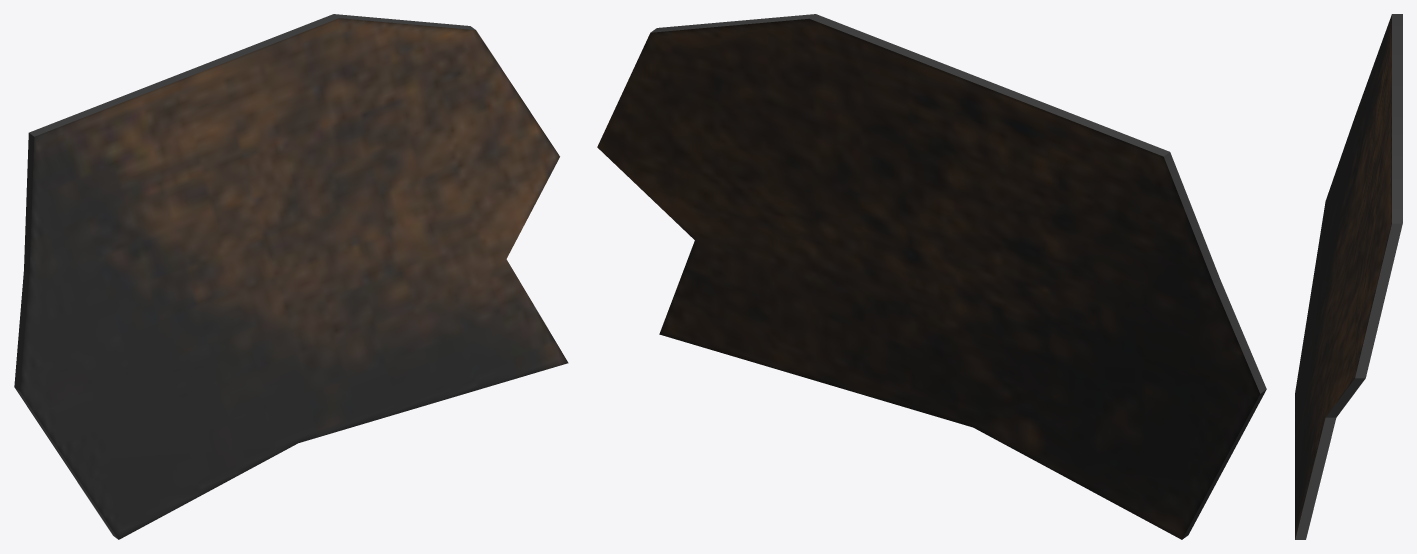
The model's file is FlyingDebri3.fbx.
3 renders of one model, left to right at view 1: azimuth 30°, elevation 25°; view 2: azimuth 150°, elevation 25°; view 3: azimuth 270°, elevation 25°, orthographic. The views are drawn at different scales.
Parts seen in each view (by area): view 1: FlyingDebri3; view 2: FlyingDebri3; view 3: FlyingDebri3.
Boxes of the visible parts, x1,y1,x2,y2 form: FlyingDebri3: (14,14,568,539); FlyingDebri3: (597,14,1266,539); FlyingDebri3: (1295,14,1402,539).
Bounding box in the file's own units: 0.0582 × 0.042 × 0.0101.
Materials: 1 (1 with a texture image).
